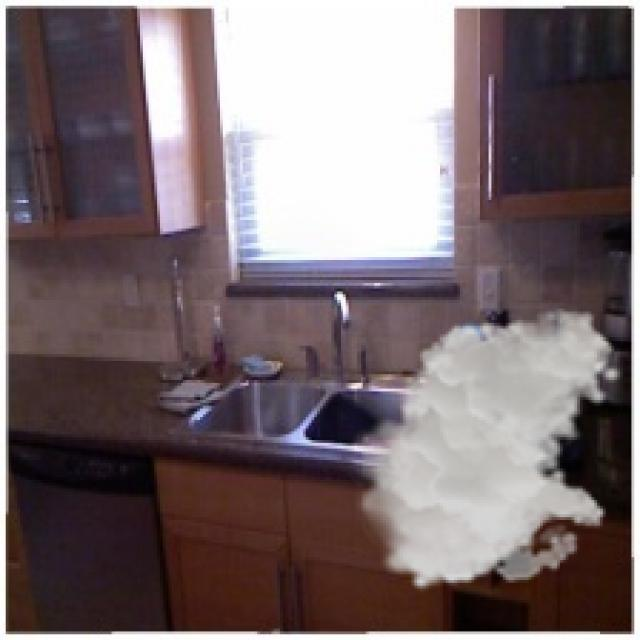smoke: (346, 308, 623, 592)
